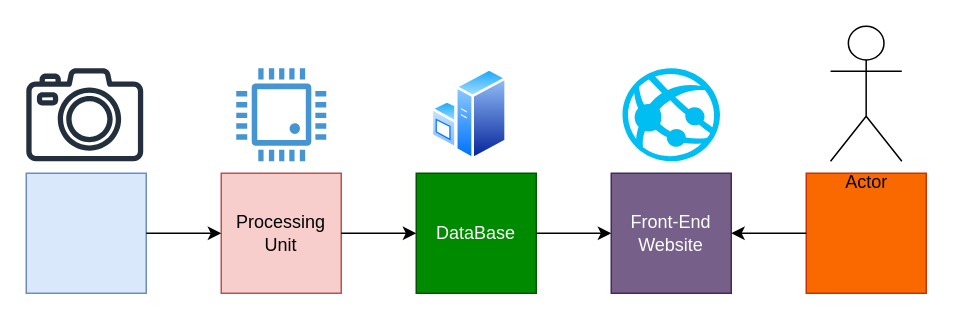
The diagram is 953 pixels wide and 320 high, and some of its shapes have lost their labels. The shapes that lost their labels are listed below. From the top down, each one's centre as x and y in pixels, then its label:
point (85, 232): Camera
point (865, 232): User
